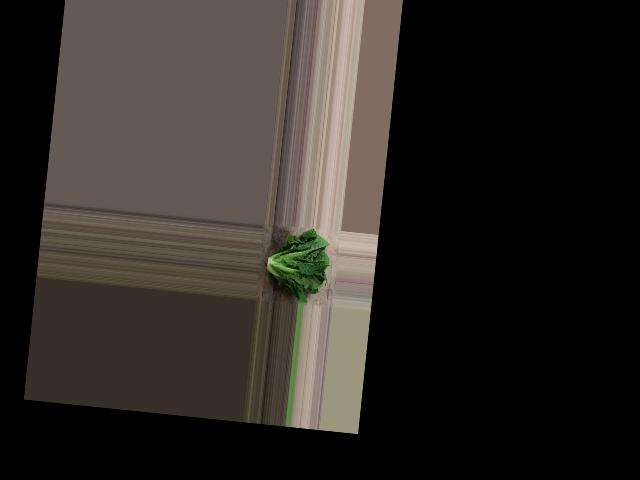lettuce: (258, 226, 334, 305)
